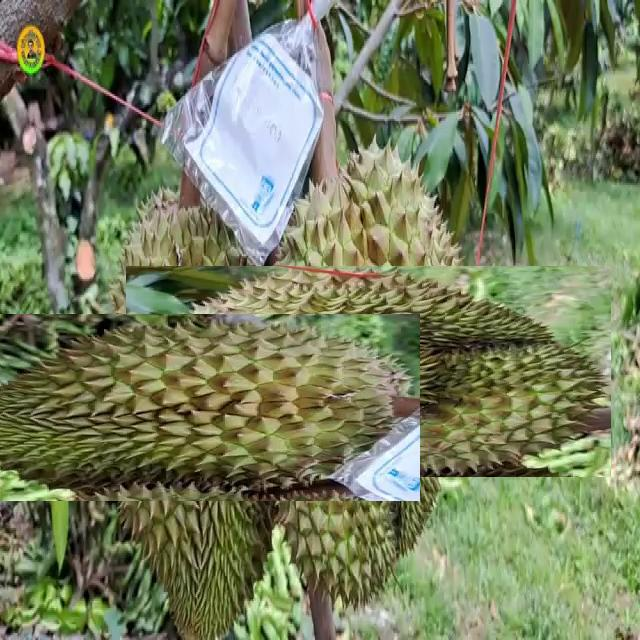durian: (194, 197, 543, 546), (29, 246, 352, 570)
